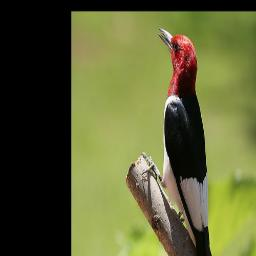Woodpecker: (153, 23, 219, 256)
